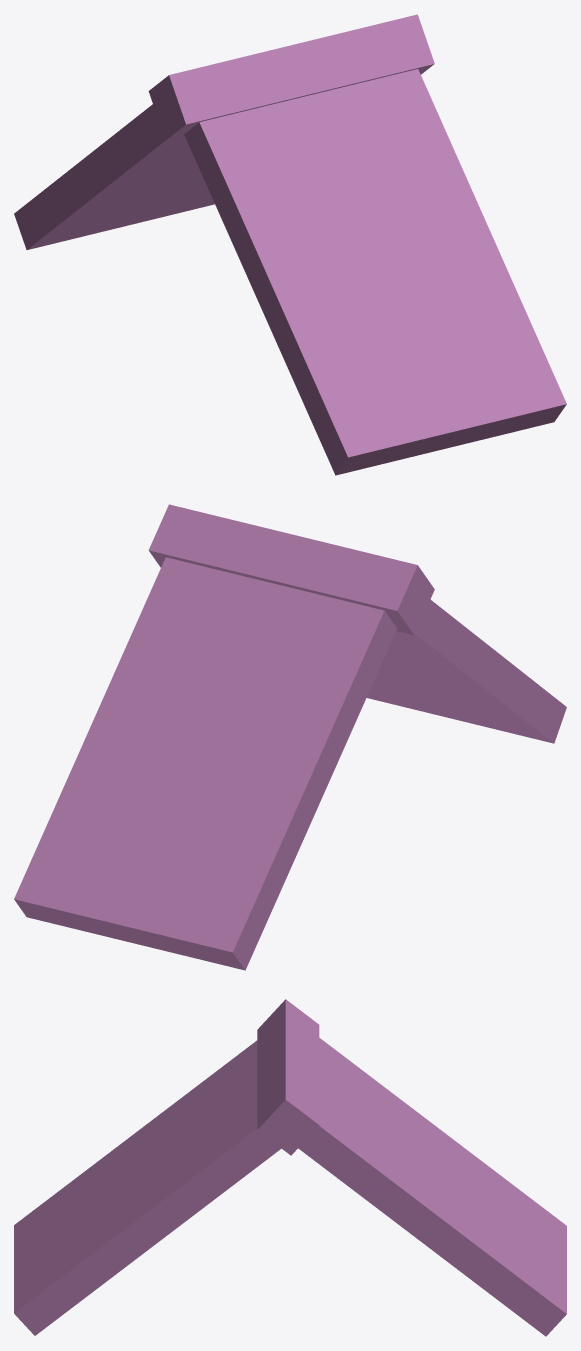
Rendered from Ramp.fbx.
3 renders of one model, top to bottom at view 1: azimuth 30°, elevation 25°; view 2: azimuth 150°, elevation 25°; view 3: azimuth 270°, elevation 25°, orthographic. The views are drawn at different scales.
Visible parts, largest first — view 1: Ramp; view 2: Ramp; view 3: Ramp.
Part boxes in pixels (<box>): Ramp: <box>14,14,566,475</box>; Ramp: <box>14,504,566,970</box>; Ramp: <box>14,999,566,1336</box>.
Size of the model in its own units: 157 by 178 by 366.
